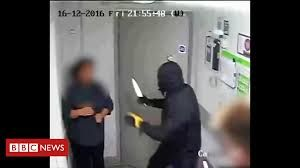gun: (124, 68, 152, 121)
